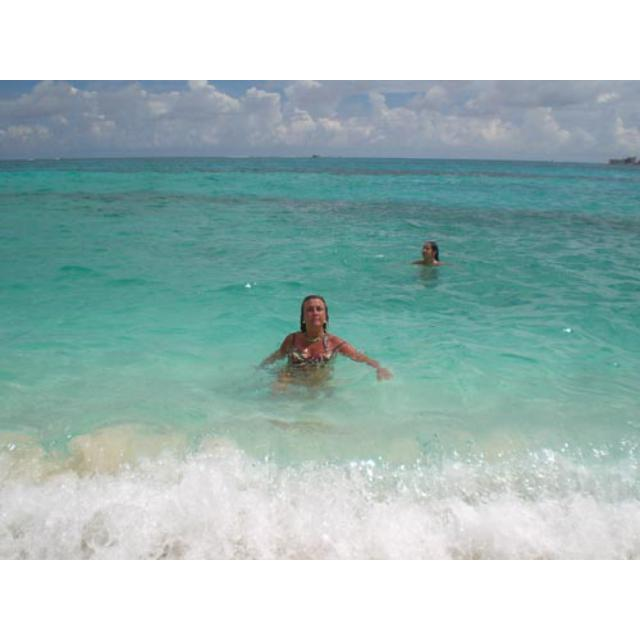human: (261, 294, 396, 398), (414, 241, 447, 269)
